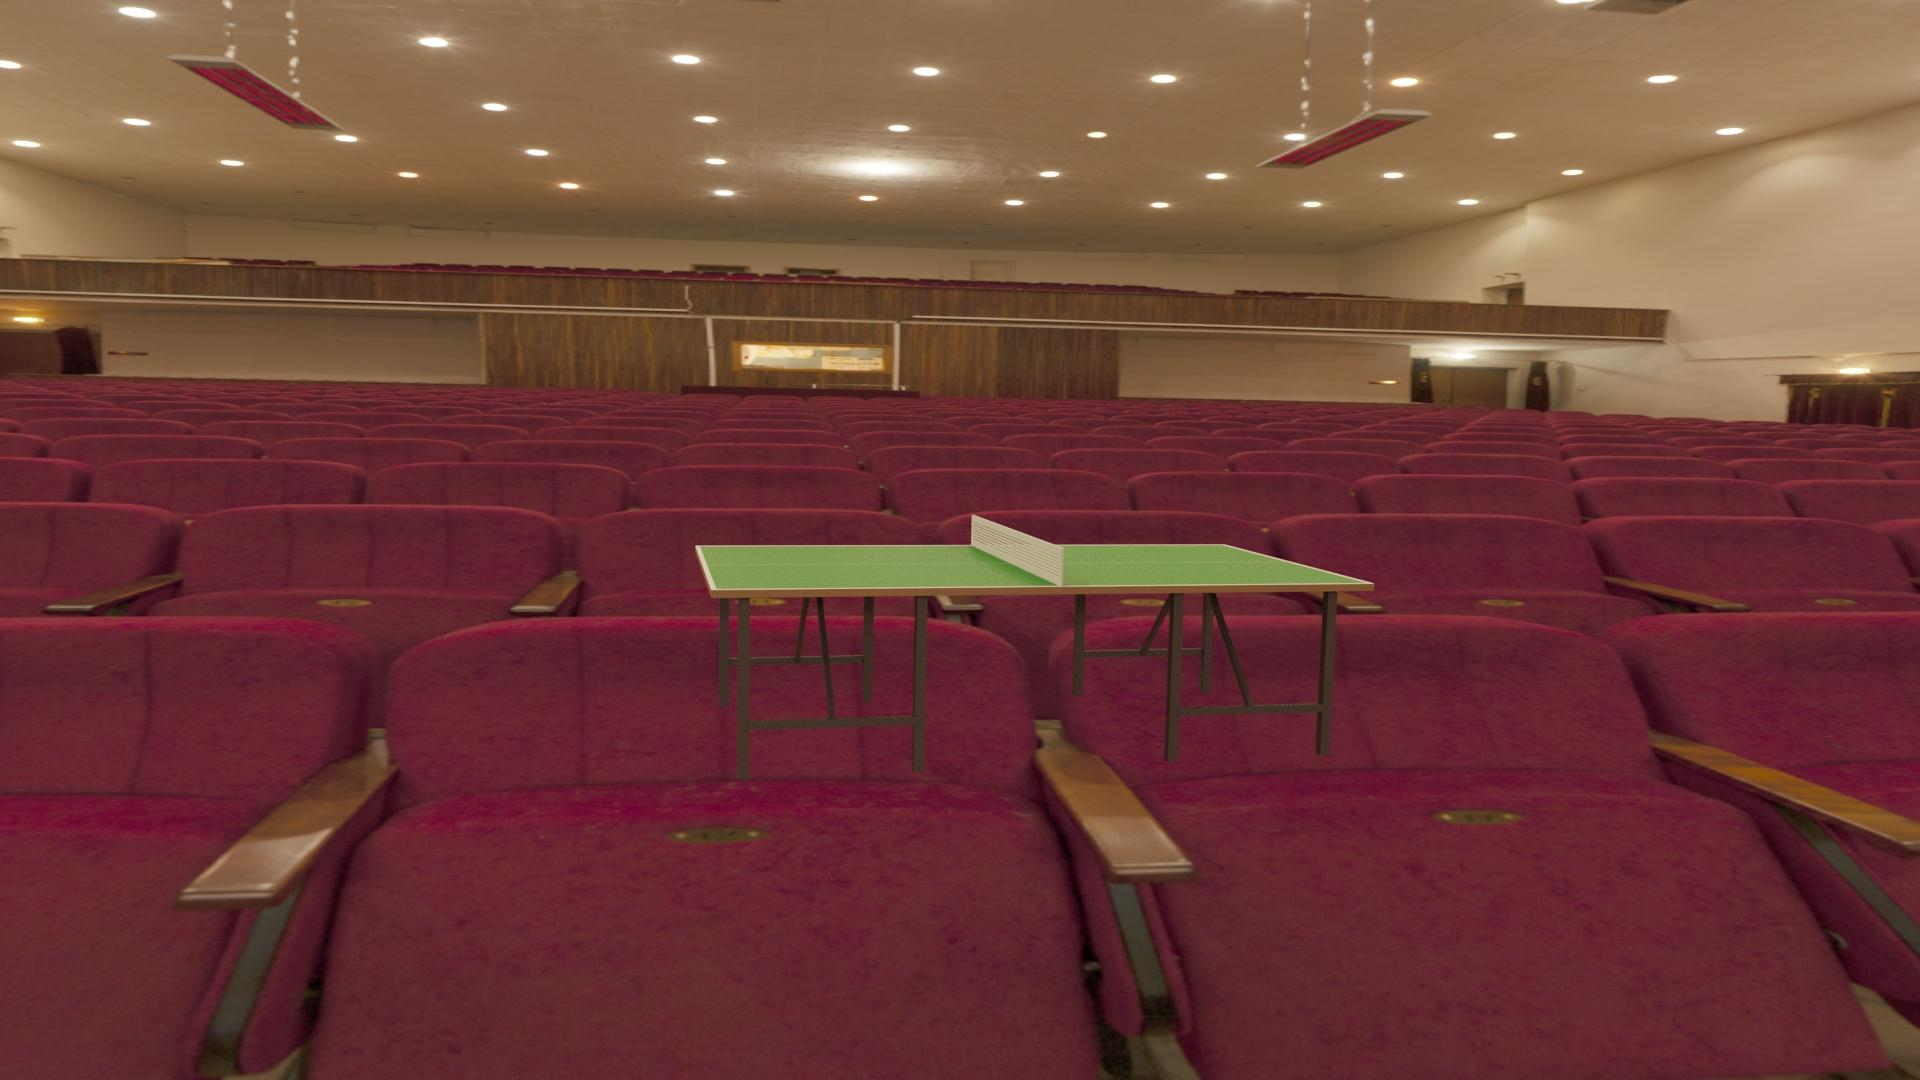table: (700, 545, 1367, 589)
